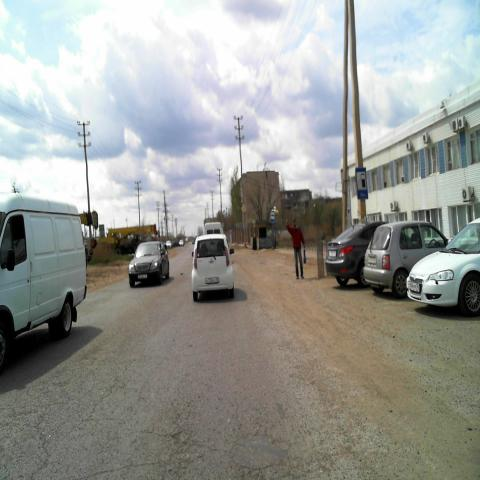7_3: (355, 168, 369, 200)
